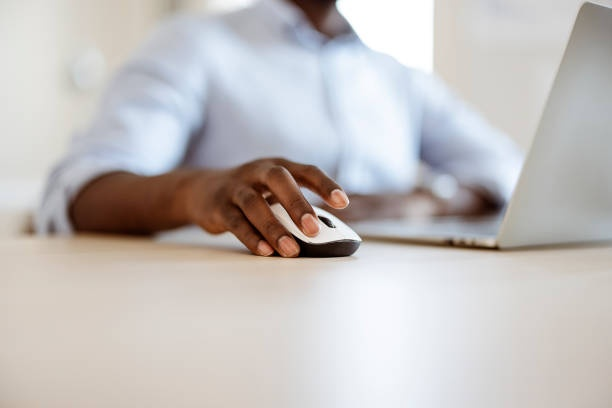mouse: (252, 195, 363, 259)
